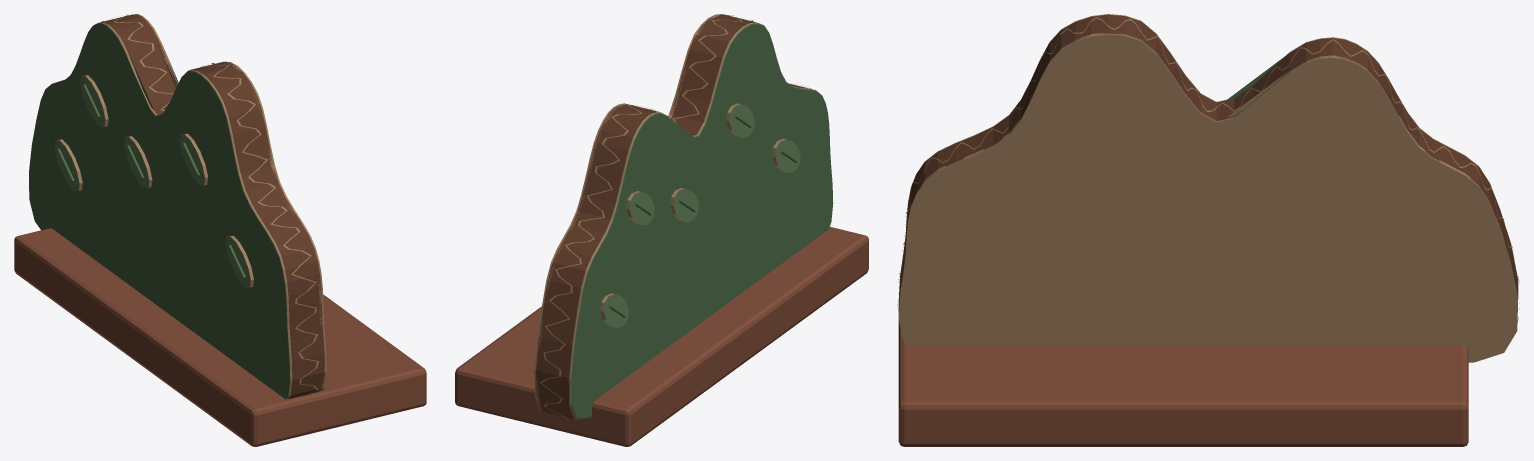
Rendered from SM_Menu_LowMeadowShrub.fbx.
3 views of the same model, side by side, from view 1: azimuth 30°, elevation 25°; view 2: azimuth 150°, elevation 25°; view 3: azimuth 270°, elevation 25° (orthographic). The views are drawn at different scales.
Parts seen in each view (by area): view 1: LowMeadowShrub Core.001_Baked; view 2: LowMeadowShrub Core.001_Baked; view 3: LowMeadowShrub Core.001_Baked.
Part boxes in pixels (<box>): LowMeadowShrub Core.001_Baked: <box>14,14,426,446</box>; LowMeadowShrub Core.001_Baked: <box>455,14,868,446</box>; LowMeadowShrub Core.001_Baked: <box>897,14,1519,446</box>.
Size of the model in its own units: 29 by 75.29 by 47.7.
